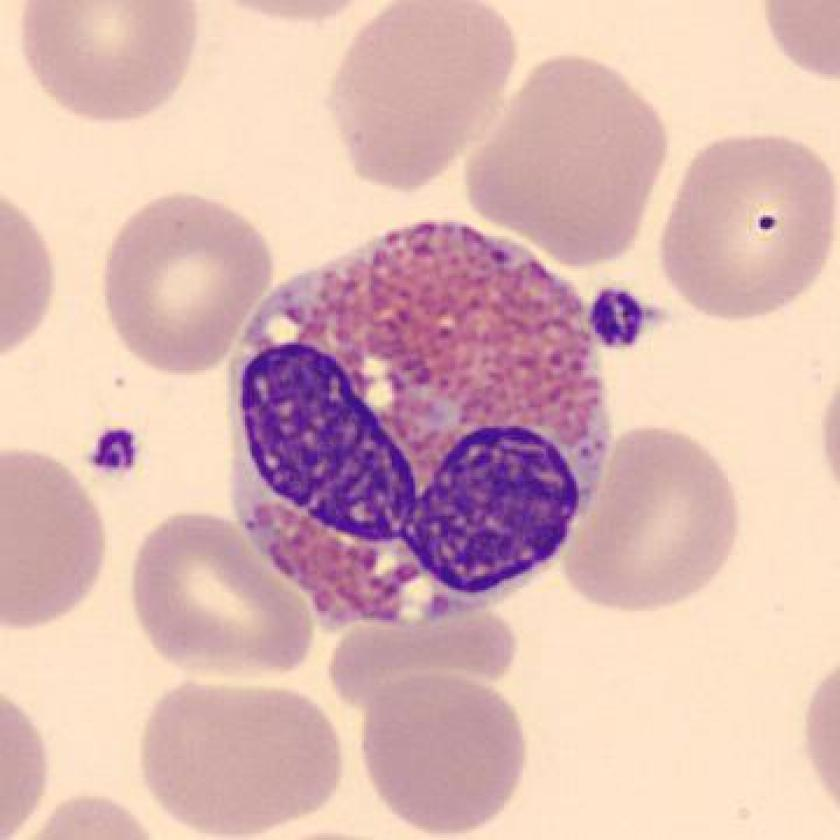eosinophil: (206, 209, 624, 635)
